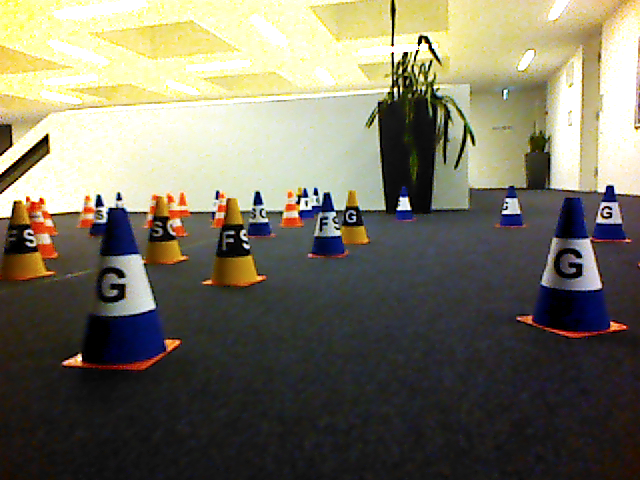bluecone: (61, 209, 182, 372), (517, 197, 628, 338), (592, 186, 633, 243), (498, 187, 525, 228)
